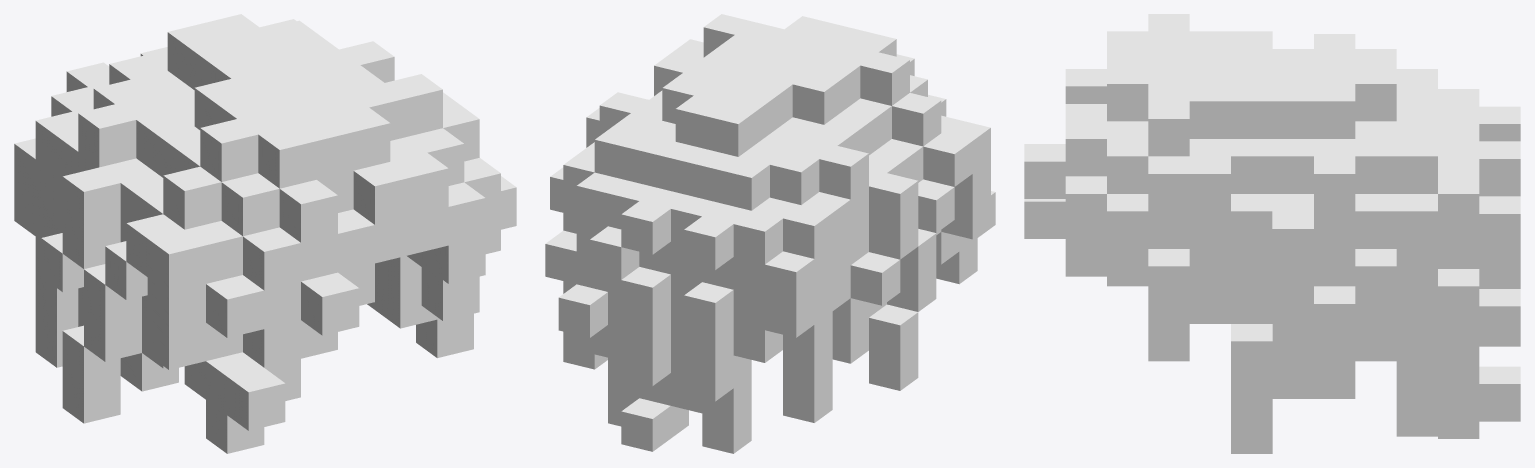
Rendered from wlos11.dae.
3 renders of one model, left to right at view 1: azimuth 30°, elevation 25°; view 2: azimuth 150°, elevation 25°; view 3: azimuth 270°, elevation 25°, orthographic. The views are drawn at different scales.
Parts seen in each view (by area): view 1: Content; view 2: Content; view 3: Content.
Boxes of the visible parts, bbox=[...] form: Content: bbox=[14, 14, 516, 453]; Content: bbox=[545, 14, 995, 453]; Content: bbox=[1024, 14, 1520, 453].
Bounding box in the file's own units: 10 × 9 × 12.
Materials: 1 (1 with a texture image).
